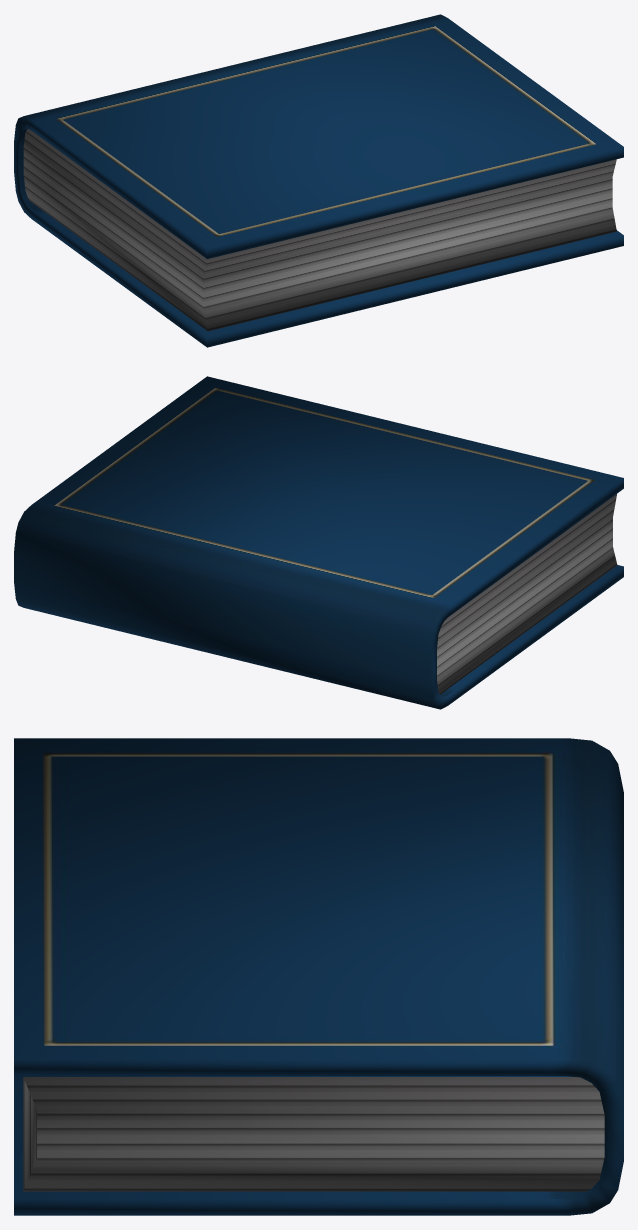
Rendered from bookgltf.gltf.
3 renders of one model, top to bottom at view 1: azimuth 30°, elevation 25°; view 2: azimuth 150°, elevation 25°; view 3: azimuth 270°, elevation 25°, orthographic. The views are drawn at different scales.
Parts seen in each view (by area): view 1: node_book_-2342; view 2: node_book_-2342; view 3: node_book_-2342.
Part boxes in pixels (box(x1,y1,x2,y2)): node_book_-2342: box(14, 14, 623, 347); node_book_-2342: box(14, 376, 623, 709); node_book_-2342: box(14, 738, 623, 1215).
Bounding box in the file's own units: 0.6571 × 0.1492 × 0.5276.
1 material, 1 textured.
